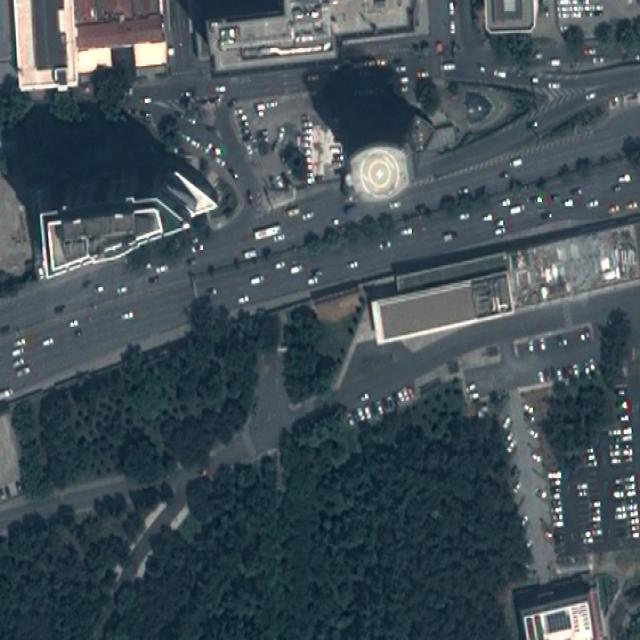Batiment: (40, 197, 190, 278), (371, 272, 512, 344), (76, 0, 163, 50), (524, 602, 592, 640), (167, 172, 218, 217), (485, 0, 535, 35)
